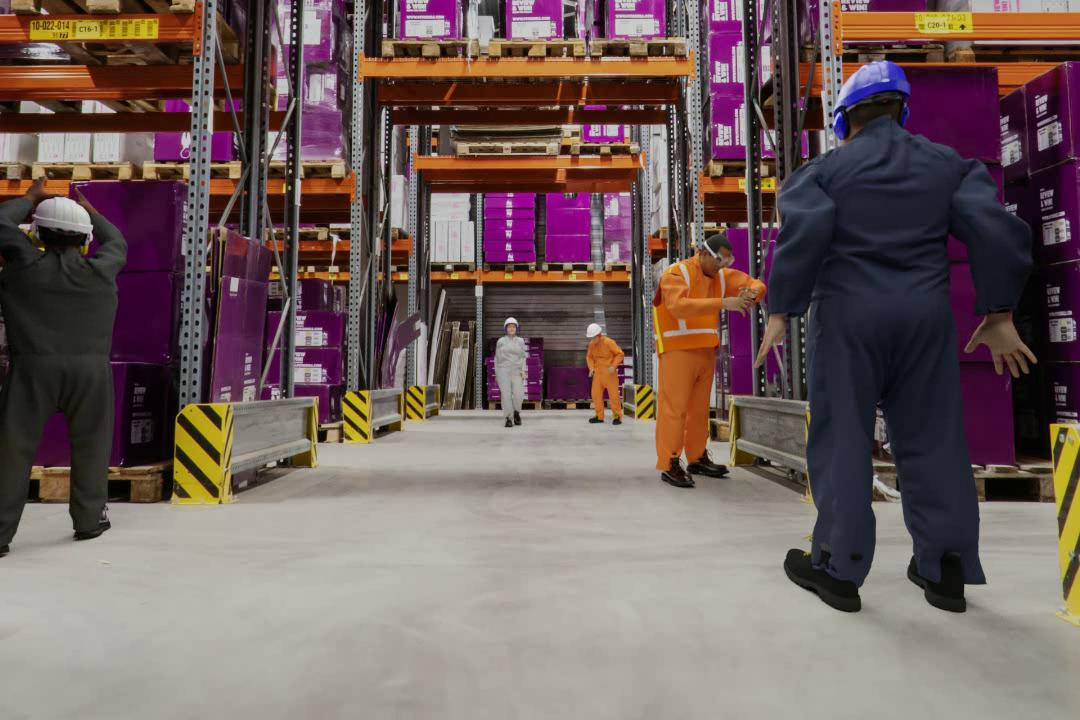Goggles: (701, 238, 737, 271)
Helmet: (817, 56, 931, 118), (28, 195, 100, 241), (582, 321, 602, 339), (502, 316, 521, 327)
Jacket: (659, 263, 736, 363)
Shoes: (776, 543, 870, 623), (896, 538, 975, 623), (66, 496, 121, 545), (686, 438, 736, 484), (652, 449, 696, 495), (512, 407, 525, 430), (611, 412, 627, 428), (587, 413, 606, 425), (503, 415, 514, 430)
